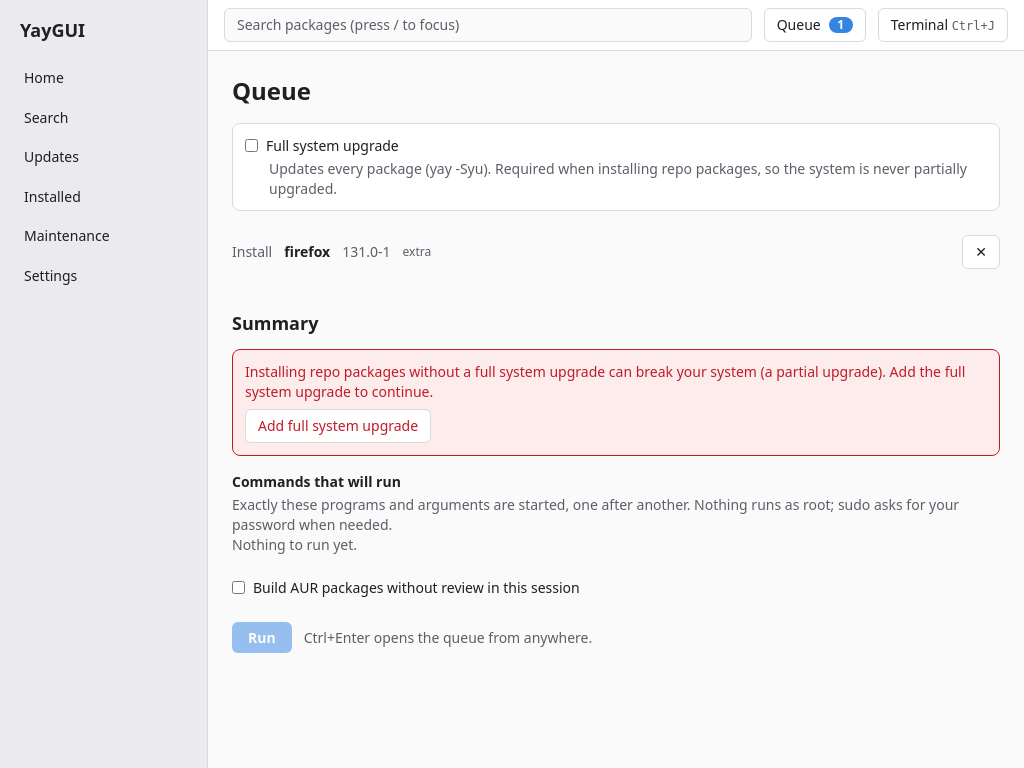
Test: queue → review → run › explains partial upgrades and fixes them with one click
This screenshot has width=1024, height=768.
Expected: the message shows "partial upgrade", [245,362,965,401]
Click the button "Add full system upgrade": click(338, 426) [245,409,431,443]
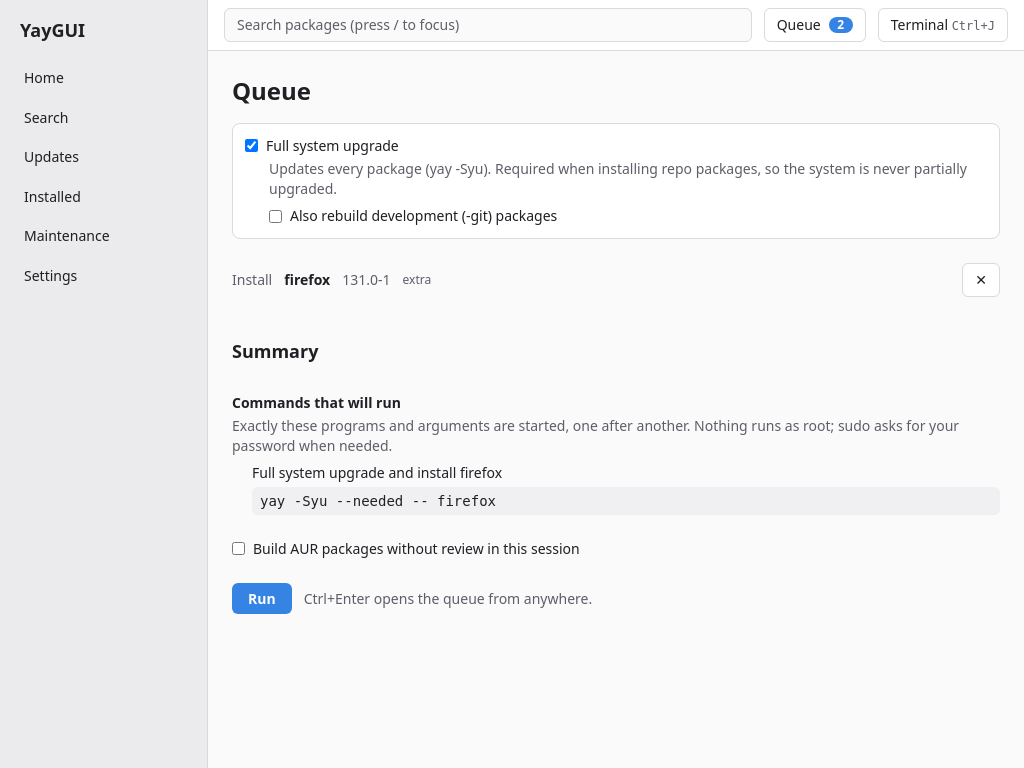
Expected: the checkbox labelled "Full system upgrade" is checked, [245,139,258,152]
Expected: the text "yay -Syu --needed -- firefox" is shown, [252,487,1000,515]
Expected: the button "Run" is enabled, [232,582,292,614]
